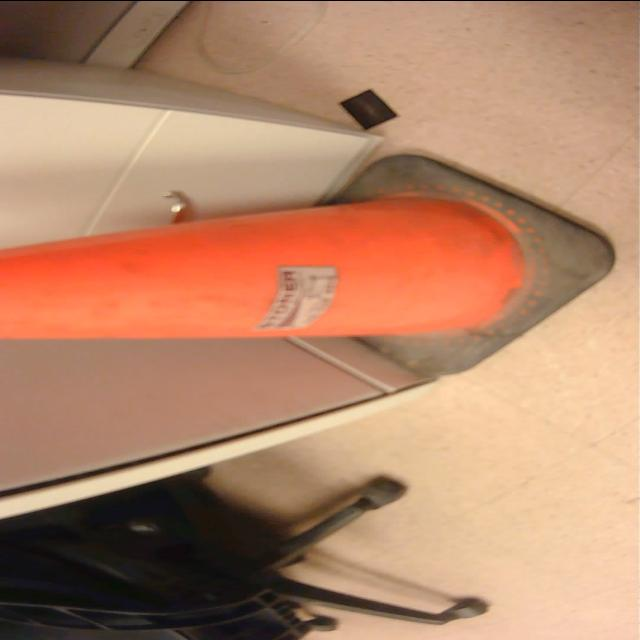traffic cone: (1, 147, 626, 383)
